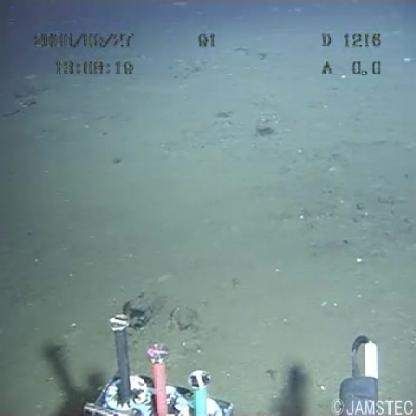Rov: (79, 307, 238, 416), (331, 328, 387, 416)
